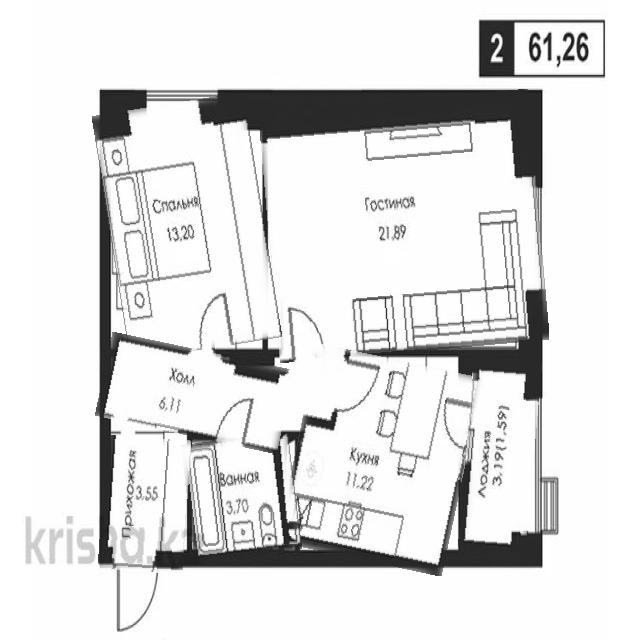balcony: (462, 358, 538, 552)
bathroom: (185, 435, 299, 559)
hallway: (99, 342, 291, 446), (100, 437, 189, 573)
kitchen: (286, 350, 474, 569)
living_room: (263, 95, 544, 358), (102, 97, 274, 356)
